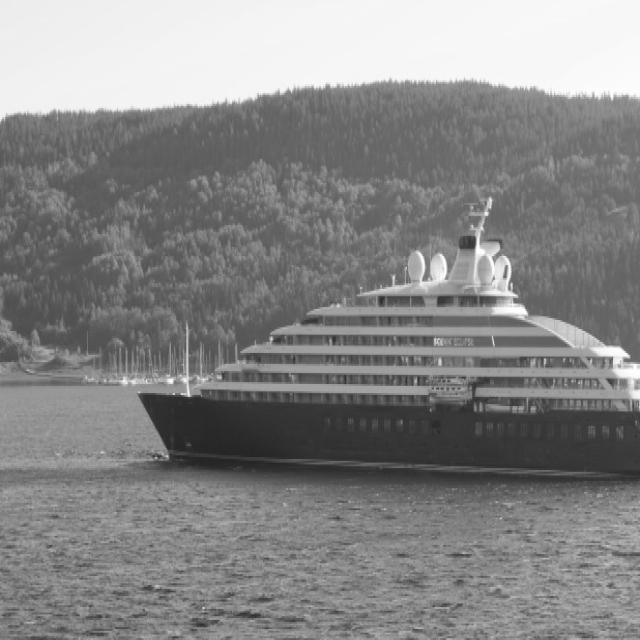cruises: (132, 180, 640, 492)
